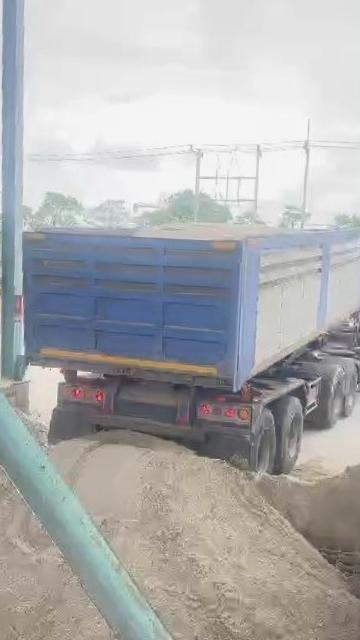sand: (52, 438, 360, 640), (0, 479, 126, 640), (258, 448, 360, 558), (136, 222, 282, 241), (19, 411, 46, 447)
